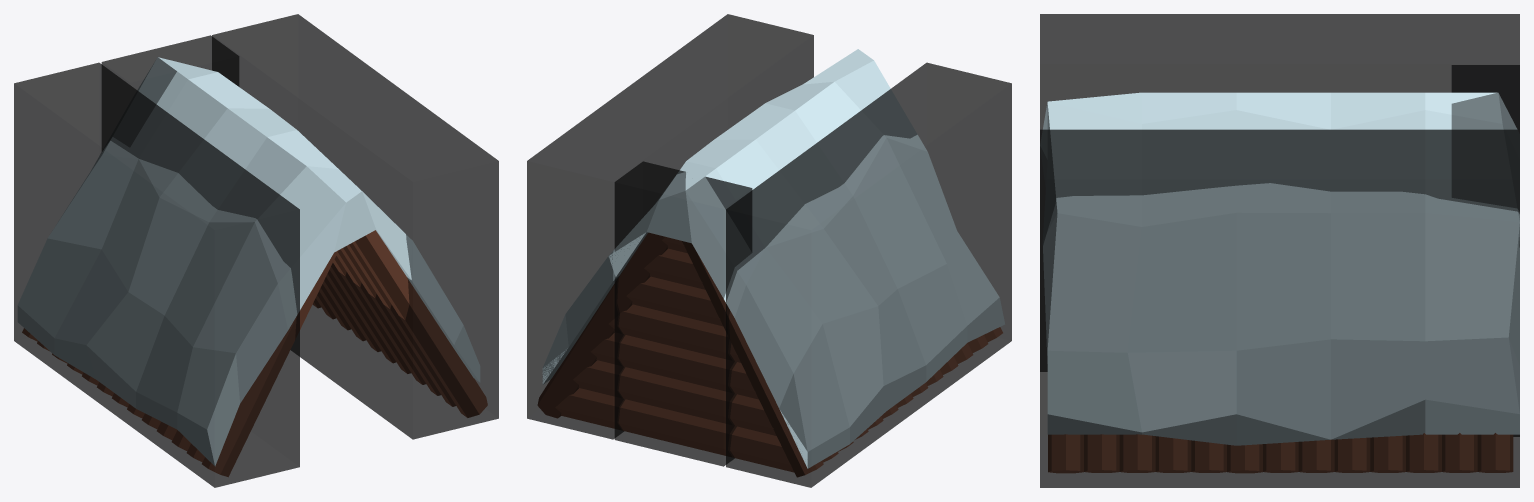
Rendered from Cabin.fbx.
3 views of the same model, side by side, from view 1: azimuth 30°, elevation 25°; view 2: azimuth 150°, elevation 25°; view 3: azimuth 270°, elevation 25° (orthographic). The views are drawn at different scales.
Parts seen in each view (by area): view 1: Cabin, Cabin_BBox, Cabin_BBox1, Cabin_BBox2; view 2: Cabin, Cabin_BBox, Cabin_BBox1, Cabin_BBox2; view 3: Cabin, Cabin_BBox1, Cabin_BBox, Cabin_BBox2.
Part boxes in pixels (left/top/right/bottom): Cabin: left=17, top=57, right=487, bottom=476; Cabin_BBox: left=14, top=62, right=299, bottom=487; Cabin_BBox1: left=212, top=14, right=498, bottom=439; Cabin_BBox2: left=101, top=35, right=239, bottom=149; Cabin: left=537, top=49, right=1004, bottom=477; Cabin_BBox: left=726, top=62, right=1011, bottom=487; Cabin_BBox1: left=527, top=14, right=813, bottom=439; Cabin_BBox2: left=614, top=161, right=752, bottom=466; Cabin: left=1040, top=92, right=1519, bottom=473; Cabin_BBox1: left=1040, top=129, right=1519, bottom=487; Cabin_BBox: left=1040, top=14, right=1519, bottom=371; Cabin_BBox2: left=1451, top=65, right=1519, bottom=436.
Bounding box in the file's own units: 15 × 13.01 × 18.35.
2 materials, 1 textured.
